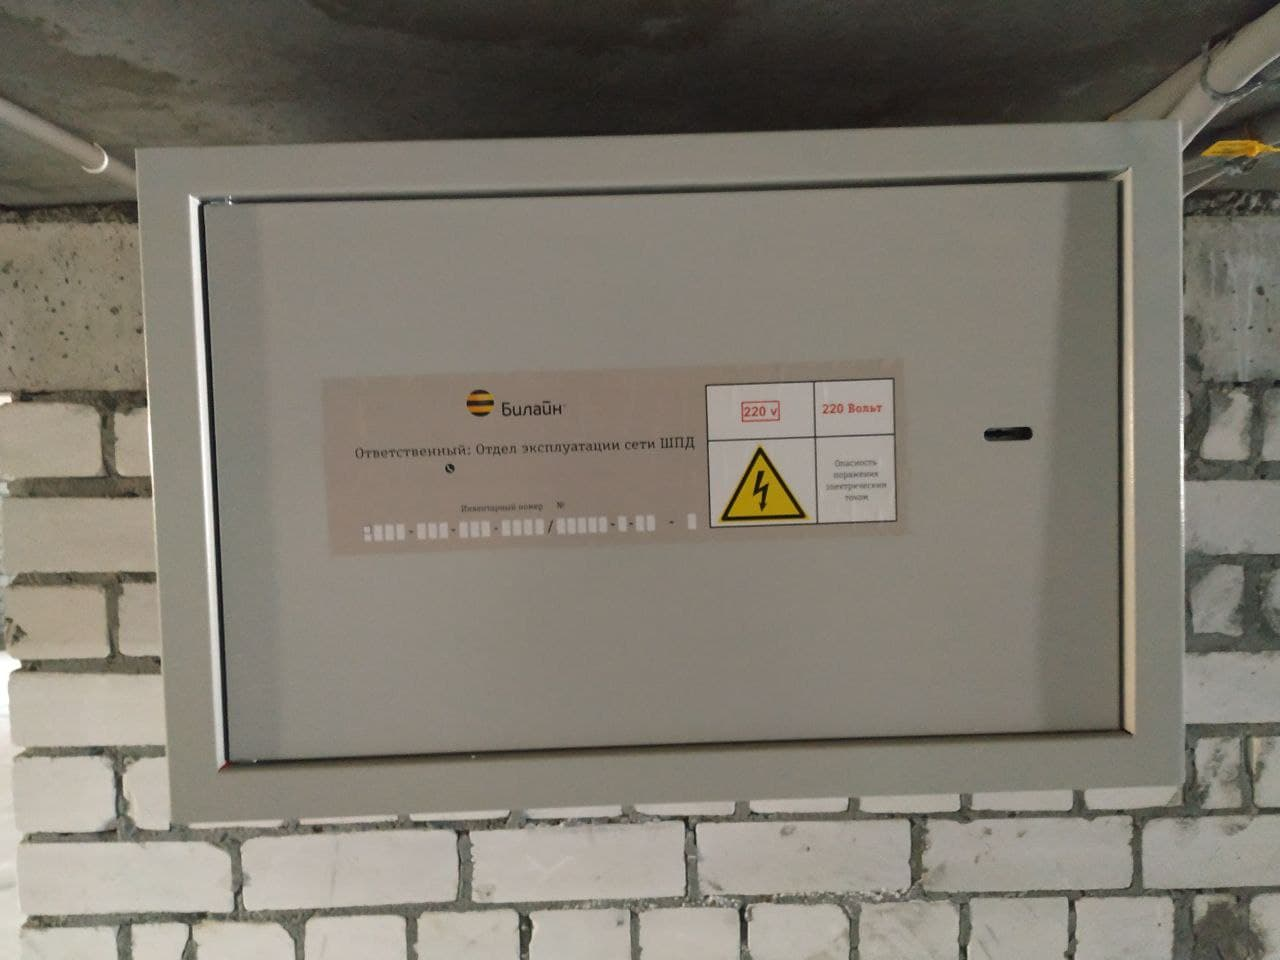shta-7m: (123, 99, 1198, 843)
